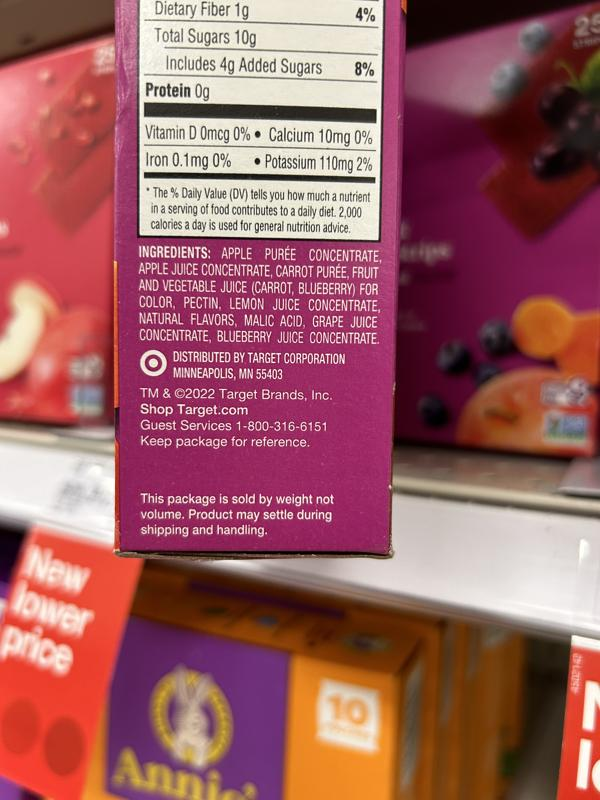ingredients: (137, 244, 380, 346)
